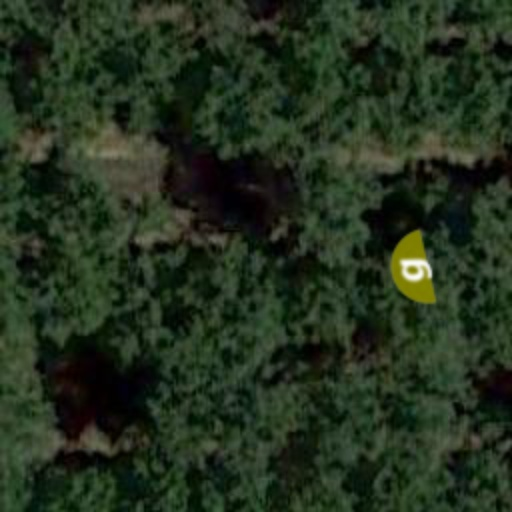semicircle: (364, 224, 456, 316)
